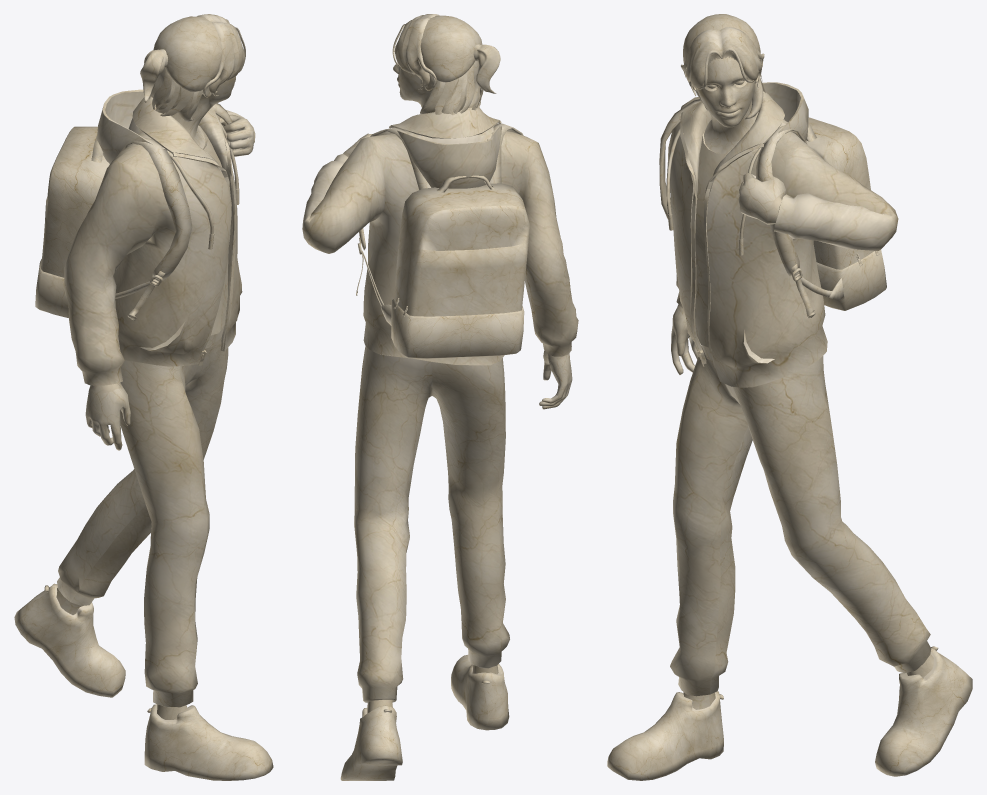
The model's file is Sample_Avatar_M_002.fbx.
3 views of the same model, side by side, from view 1: azimuth 30°, elevation 25°; view 2: azimuth 150°, elevation 25°; view 3: azimuth 270°, elevation 25° (orthographic). The views are drawn at different scales.
Visible parts, largest first — view 1: Sample_Avatar_M_002; view 2: Sample_Avatar_M_002; view 3: Sample_Avatar_M_002.
Boxes of the visible parts, x1,y1,x2,y2 form: Sample_Avatar_M_002: (14,14,273,780); Sample_Avatar_M_002: (302,14,578,780); Sample_Avatar_M_002: (607,14,972,780).
Bounding box in the file's own units: 0.5615 × 1.79 × 0.788.
